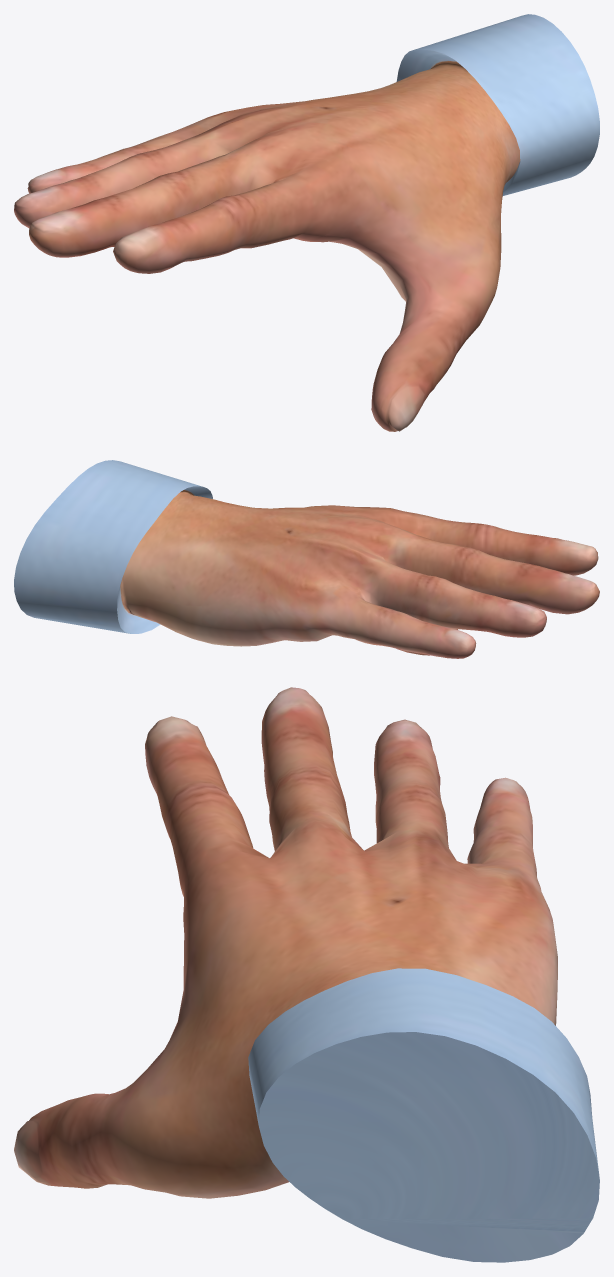
File: hand.fbx
3 views of the same model, one above another, from view 1: azimuth 30°, elevation 25°; view 2: azimuth 150°, elevation 25°; view 3: azimuth 270°, elevation 25° (orthographic). The views are drawn at different scales.
Parts seen in each view (by area): view 1: polySurface2; view 2: polySurface2; view 3: polySurface2.
Boxes of the visible parts, <box> form: polySurface2: <box>14,14,599,431</box>; polySurface2: <box>14,460,599,658</box>; polySurface2: <box>14,687,599,1262</box>.
Size of the model in its own units: 23.71 by 9.36 by 14.24.
